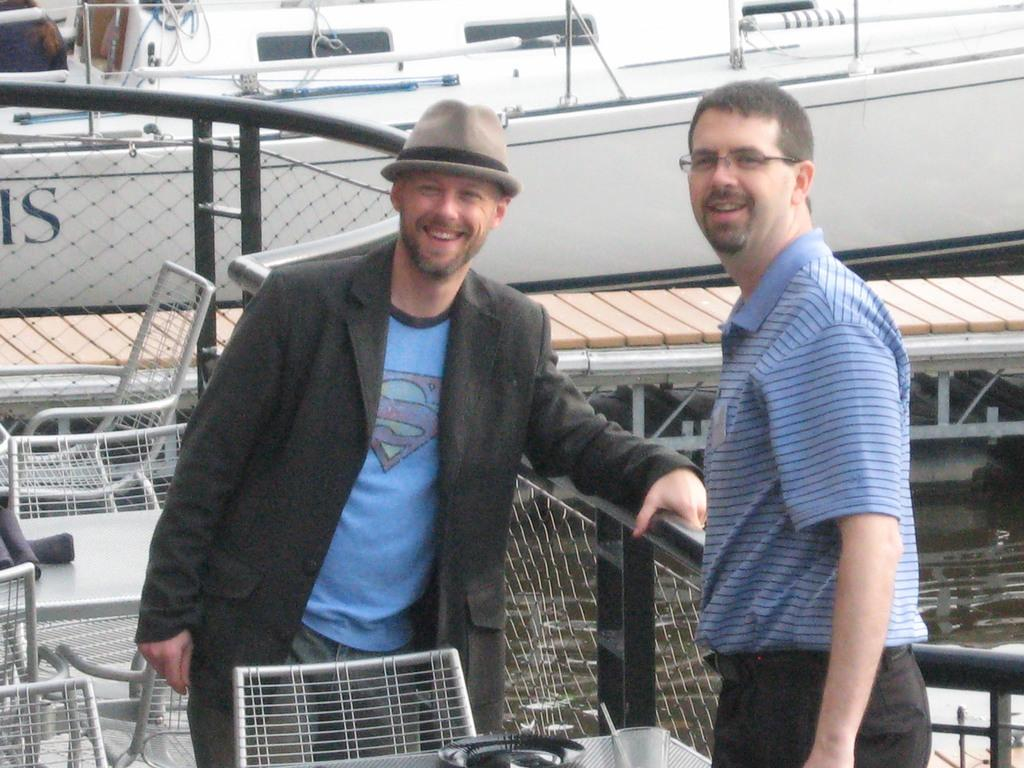Hat: (382, 95, 524, 192)
